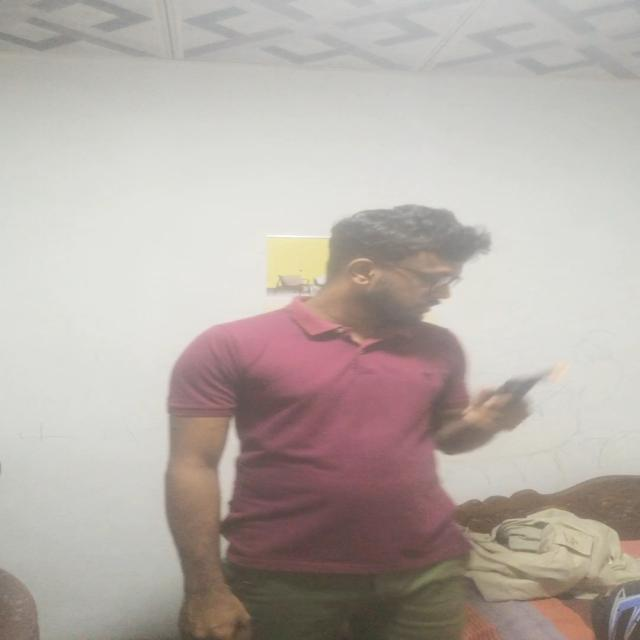Gun_Holder: (464, 359, 563, 426)
Person: (141, 202, 520, 640)
